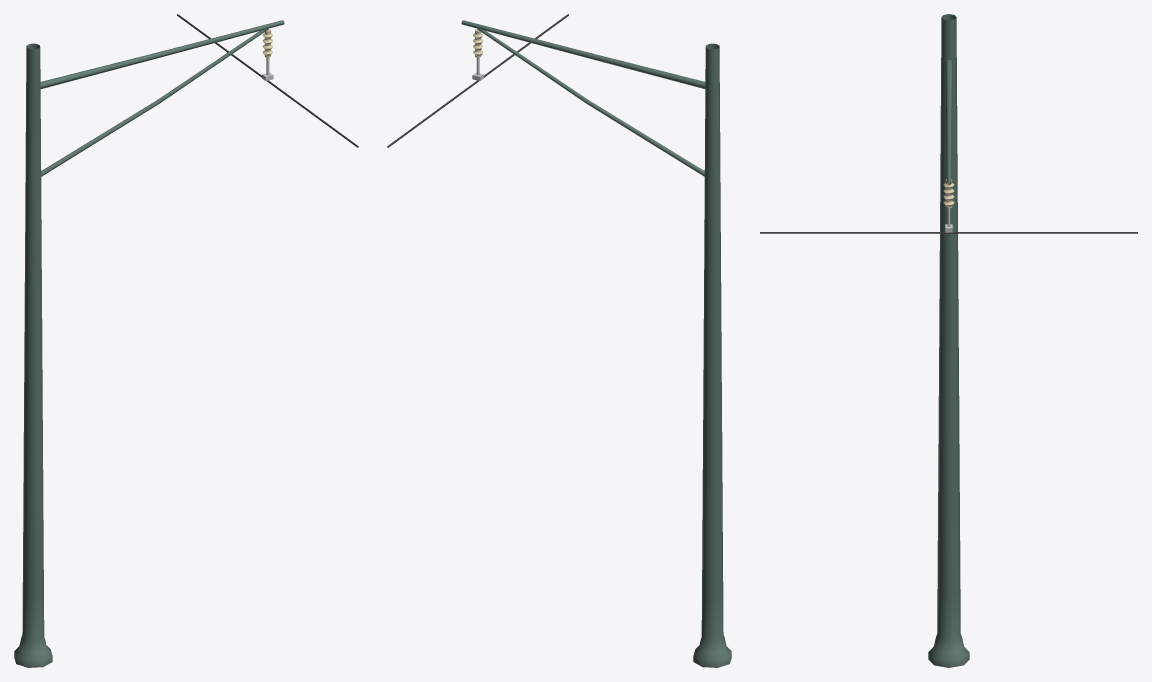
Rendered from tram_pole.glb.
The picture shows the model from 3 angles, left to right: view 1: azimuth 30°, elevation 25°; view 2: azimuth 150°, elevation 25°; view 3: azimuth 270°, elevation 25°; orthographic projection. The views are drawn at different scales.
Visible parts, largest first — view 1: tram_pole; view 2: tram_pole; view 3: tram_pole.
Part boxes in pixels (left/top/right/bottom): tram_pole: left=14, top=14, right=358, bottom=667; tram_pole: left=387, top=14, right=731, bottom=667; tram_pole: left=760, top=14, right=1137, bottom=667.
Bounding box in the file's own units: 3.42 × 7.5 × 4.
